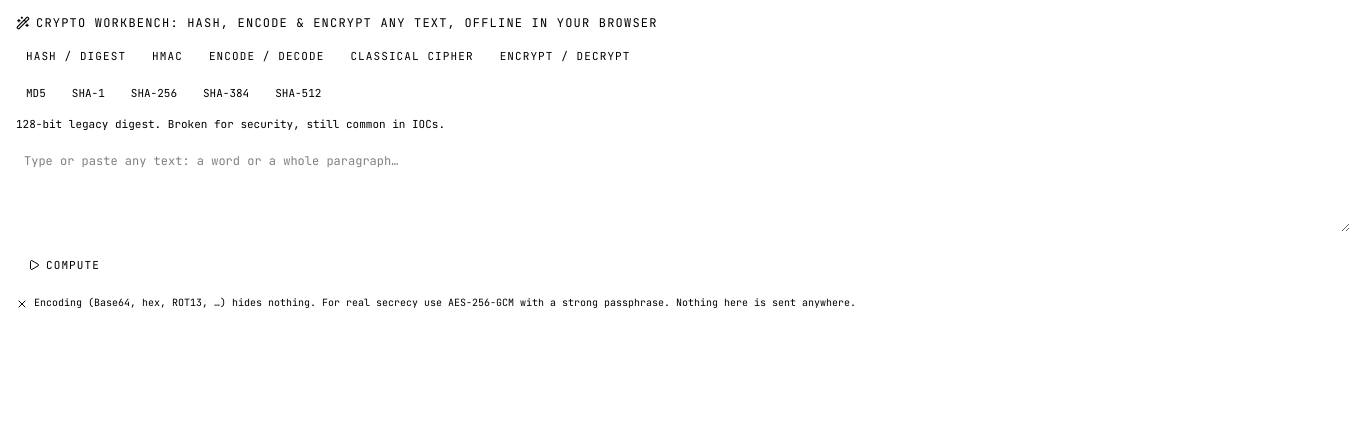
Test: <CryptoWorkbench> digests › computes an MD5 by default, with no key field and no direction toggle
Type "abc" into the text box named "Input text".
click(683, 188); type("abc")  # box [16,144,1350,232]
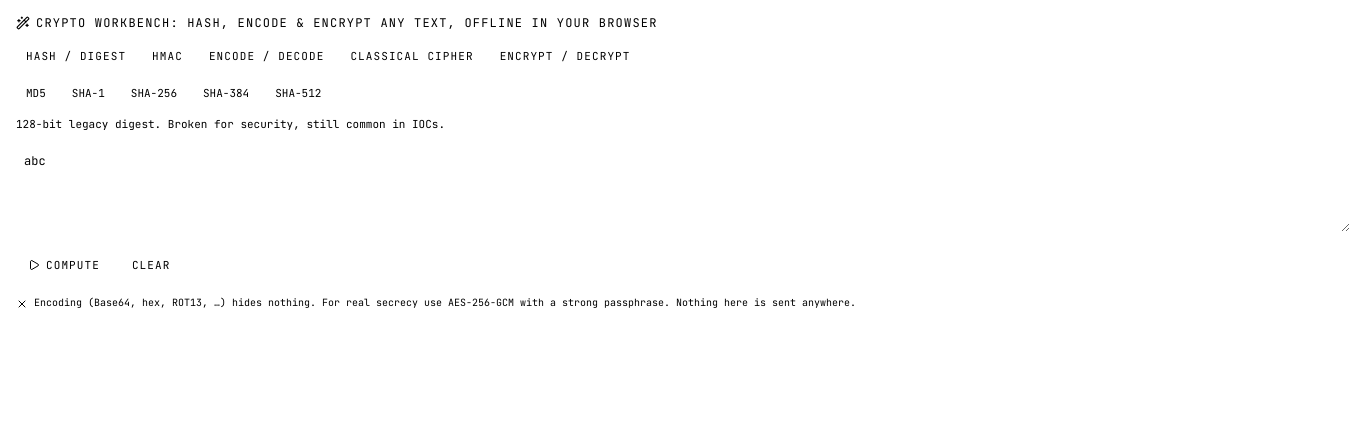
Click the button "Compute".
click(64, 265)  # box [16,251,112,280]
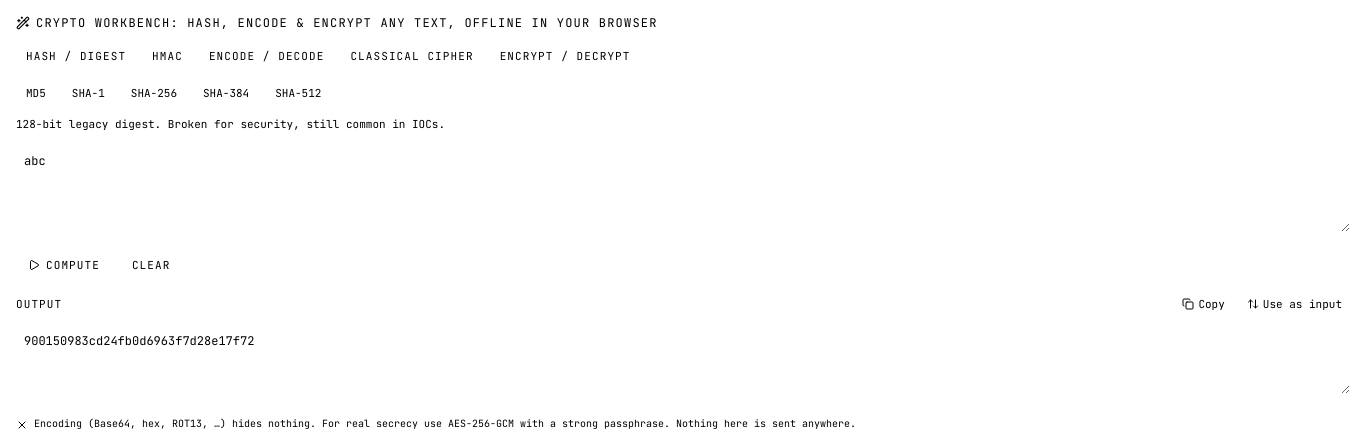
Check: the text box named "Output" holds "900150983cd24fb0d6963f7d28e17f72", box [16,324,1350,394]
